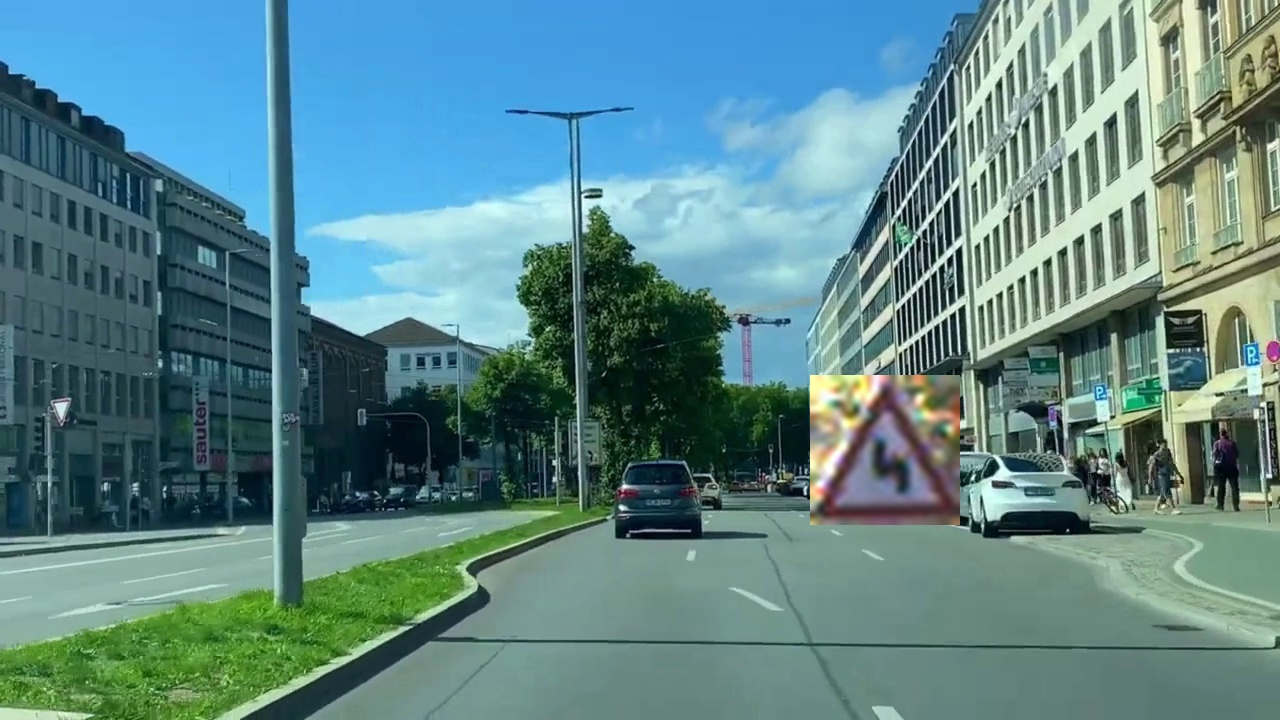Double curve: (810, 375, 960, 525)
